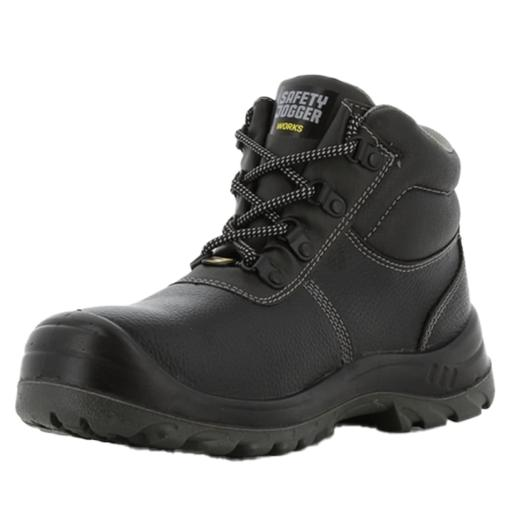safety_boots: (1, 223, 510, 456)
